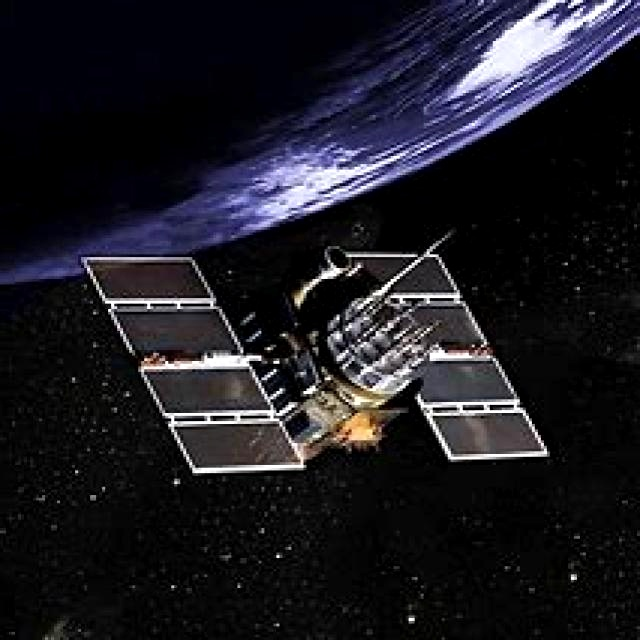medium_debris: (88, 210, 533, 504)
